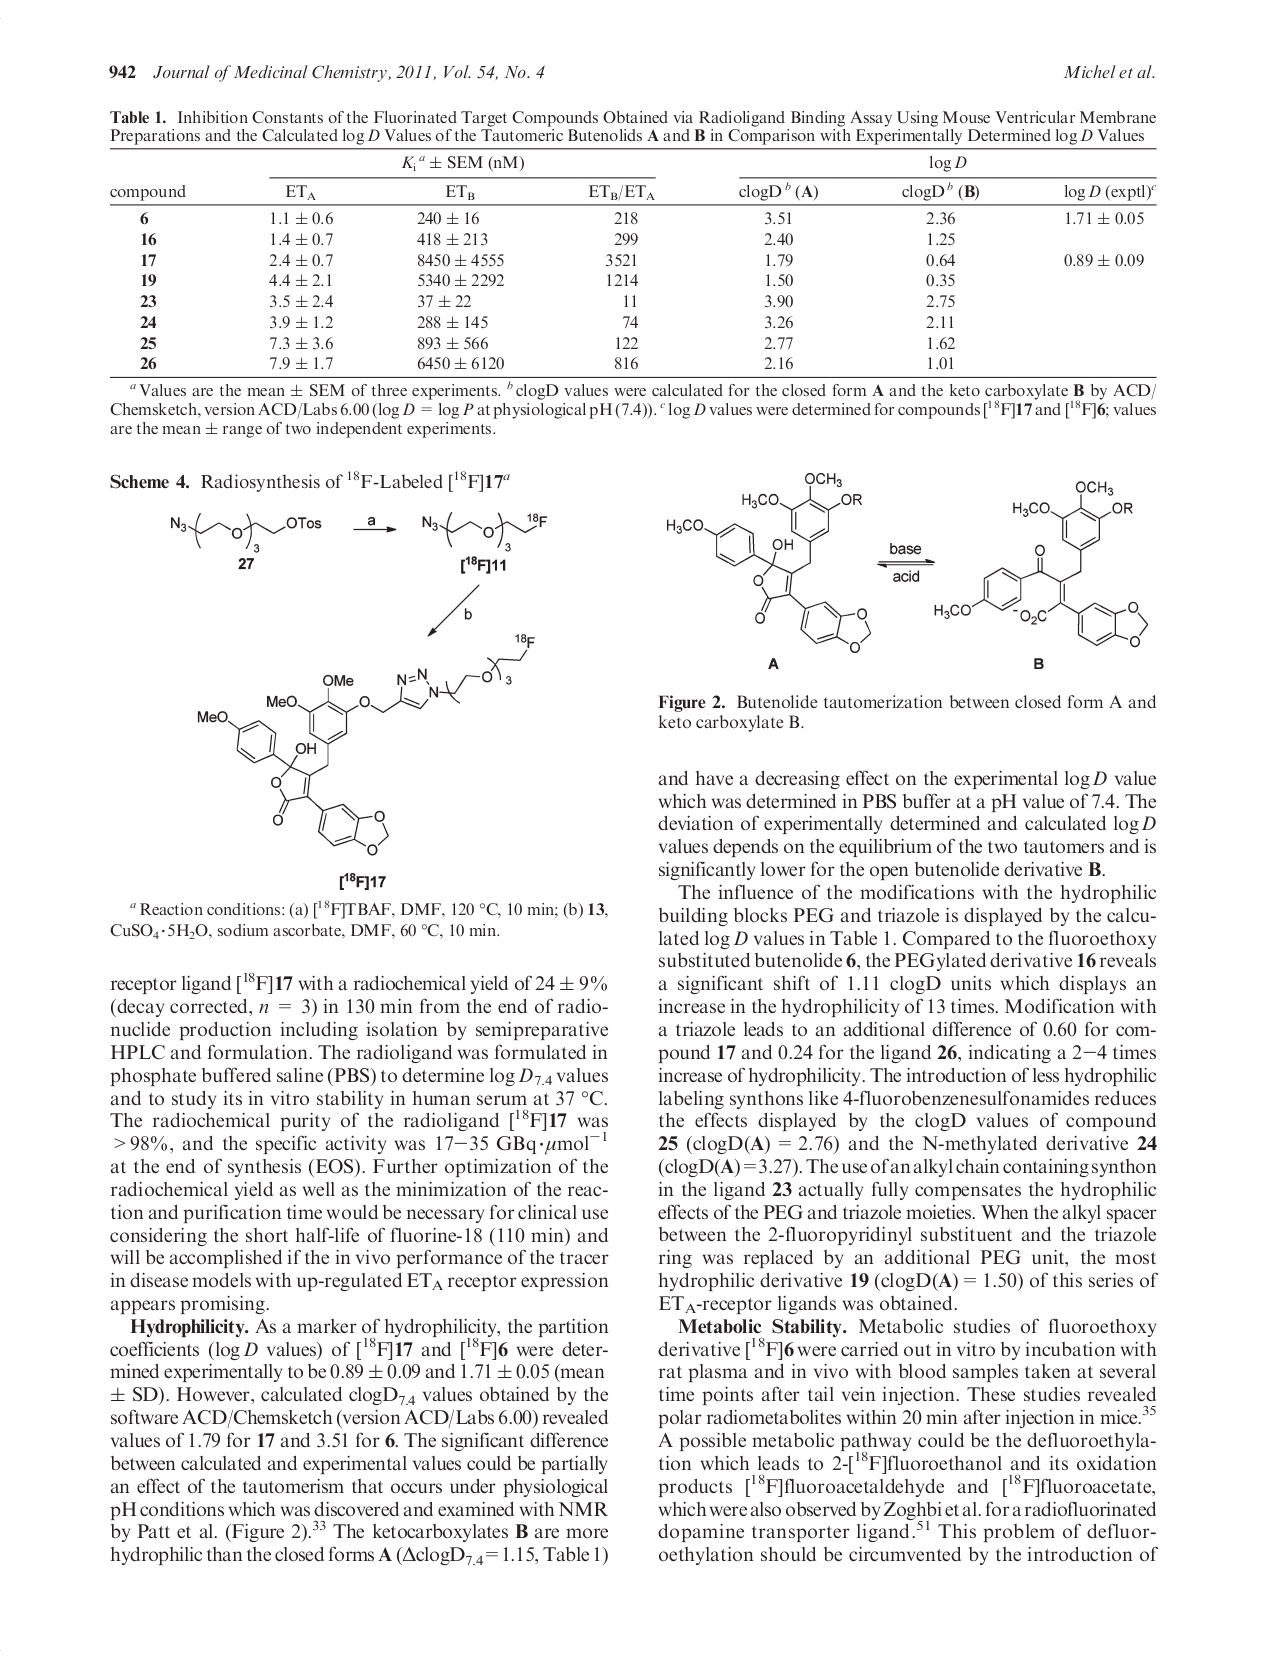exist_molecular: (195, 630, 539, 860), (662, 465, 878, 654), (928, 477, 1152, 650), (168, 505, 322, 557), (416, 508, 549, 557)
